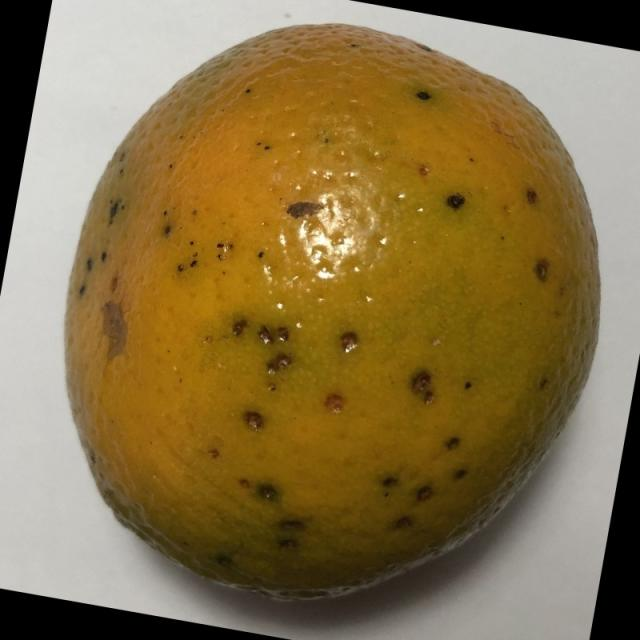black spot: (62, 7, 618, 617)
